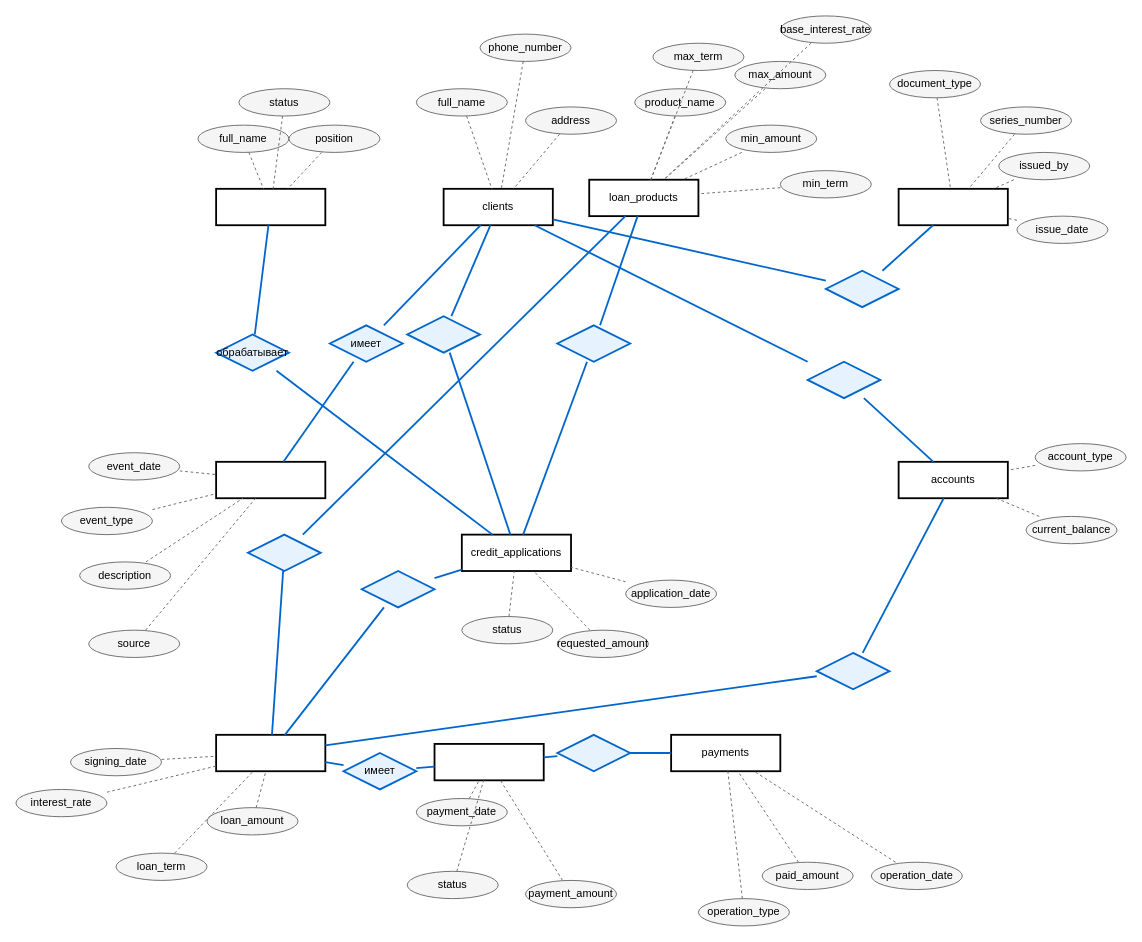
The diagram is 1142 pixels wide and 942 high, and some of its shapes have lost their labels. Each missing label, with the centre of its shape:
"credit_contracts" goes at point 270,752.
"credit_history" goes at point 270,479.
"documents" goes at point 952,206.
"employees" goes at point 270,206.
"payment_schedule" goes at point 488,762.
"запрашивает" goes at point 593,343.
"основан на" goes at point 284,552.
"открывает" goes at point 843,379.
"погашает" goes at point 593,752.
"подает" goes at point 443,334.
"привязан к" goes at point 852,671.
"принадлежит" goes at point 861,288.
"создает" goes at point 397,589.
